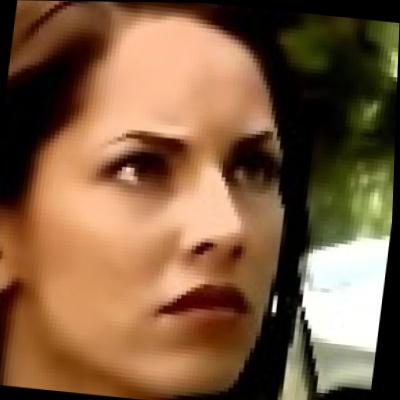angry: (8, 3, 309, 392)
